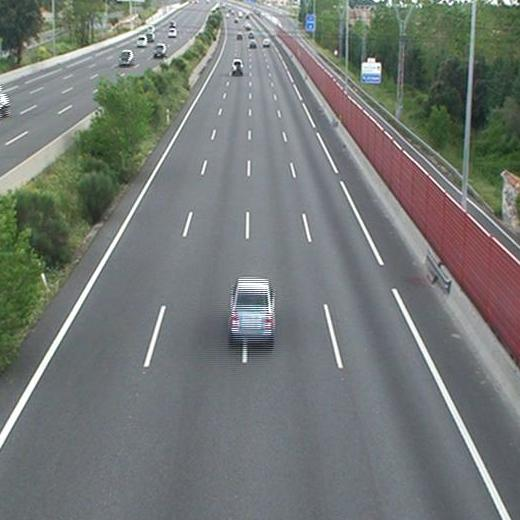car: (229, 278, 274, 340), (231, 60, 242, 73)
